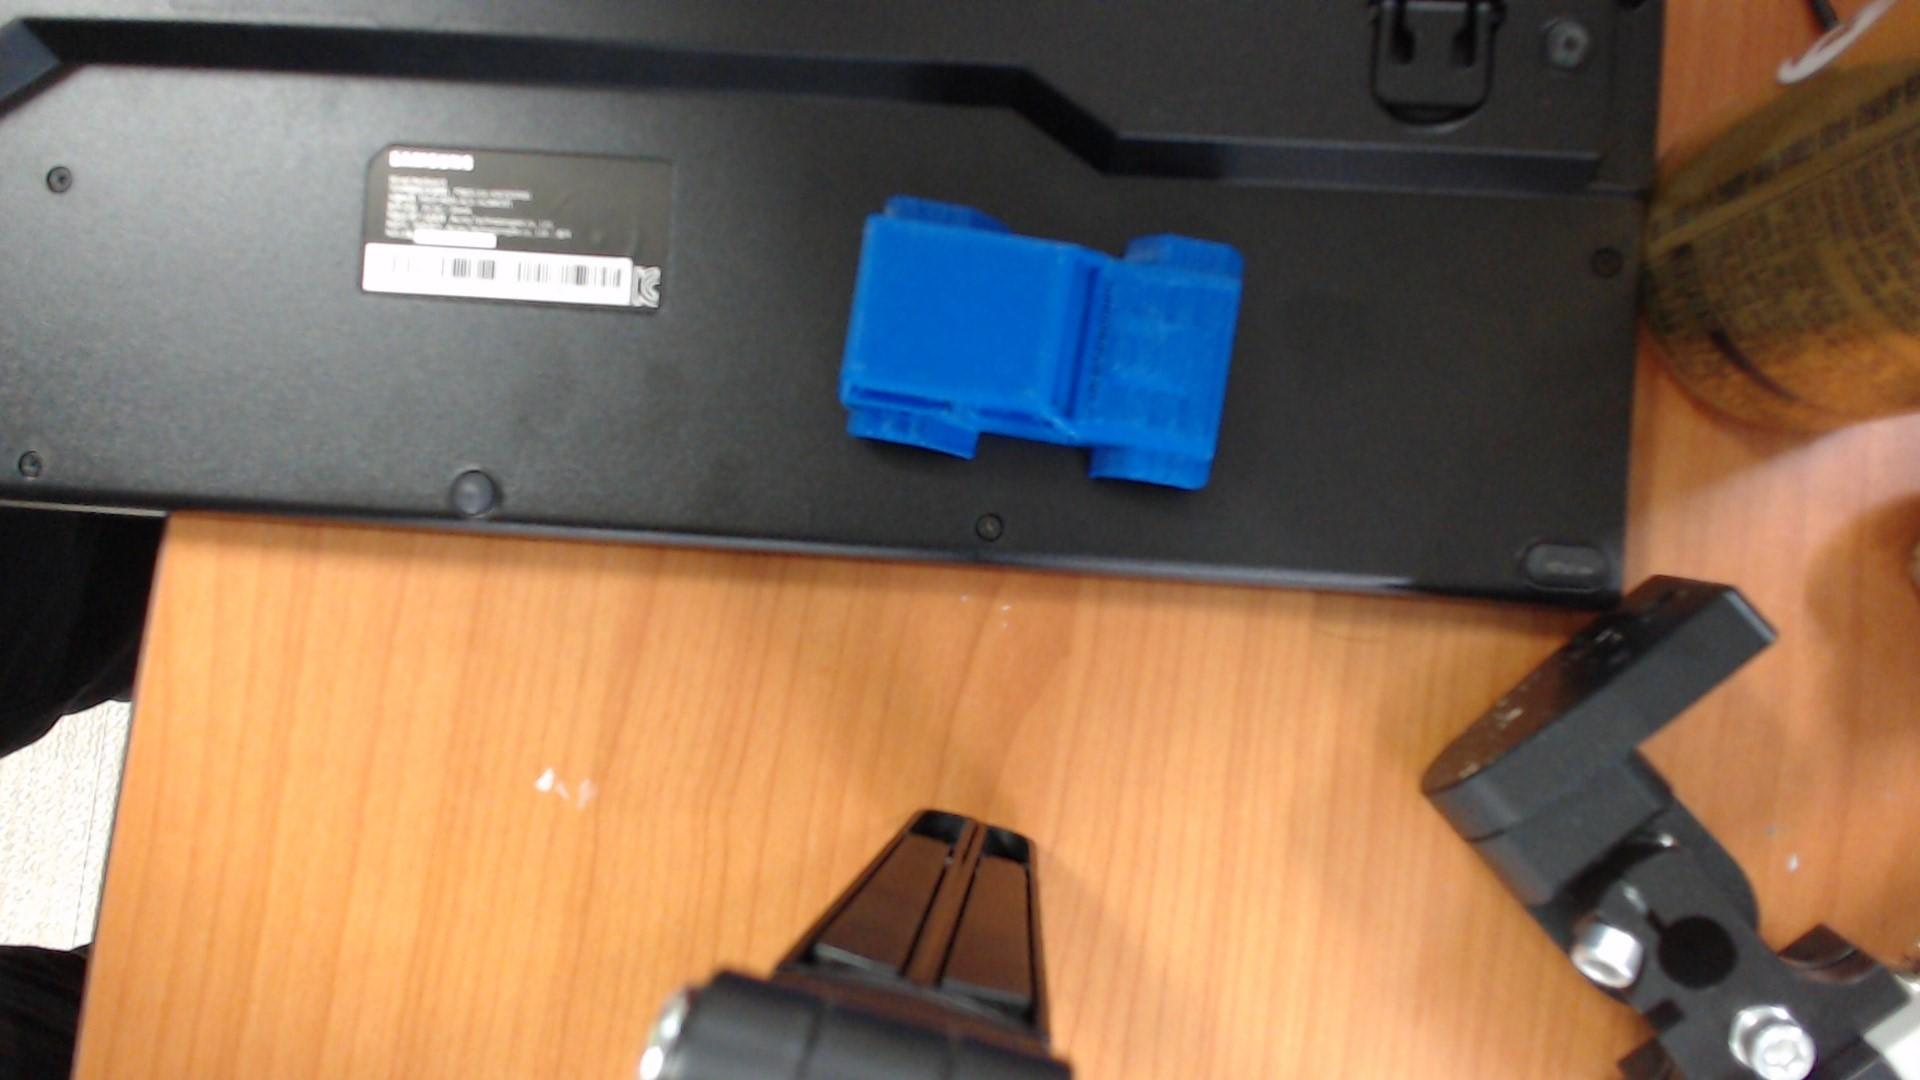Upper_ng: (839, 196, 1244, 491)
